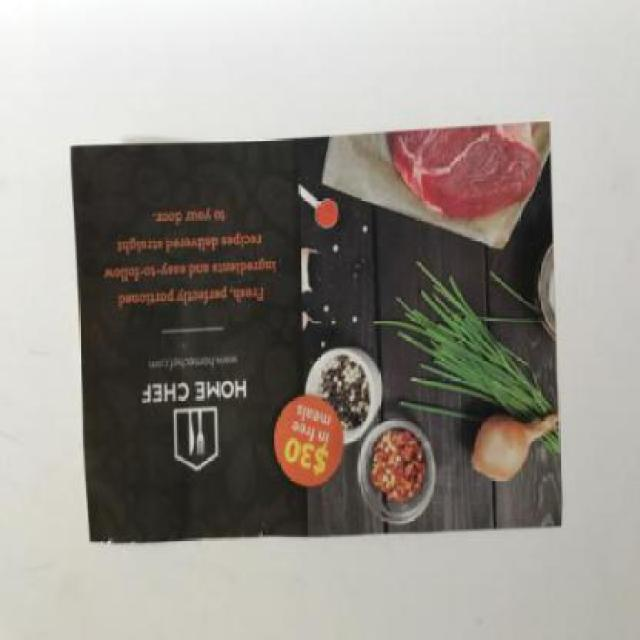PAPER: (68, 118, 560, 540)
